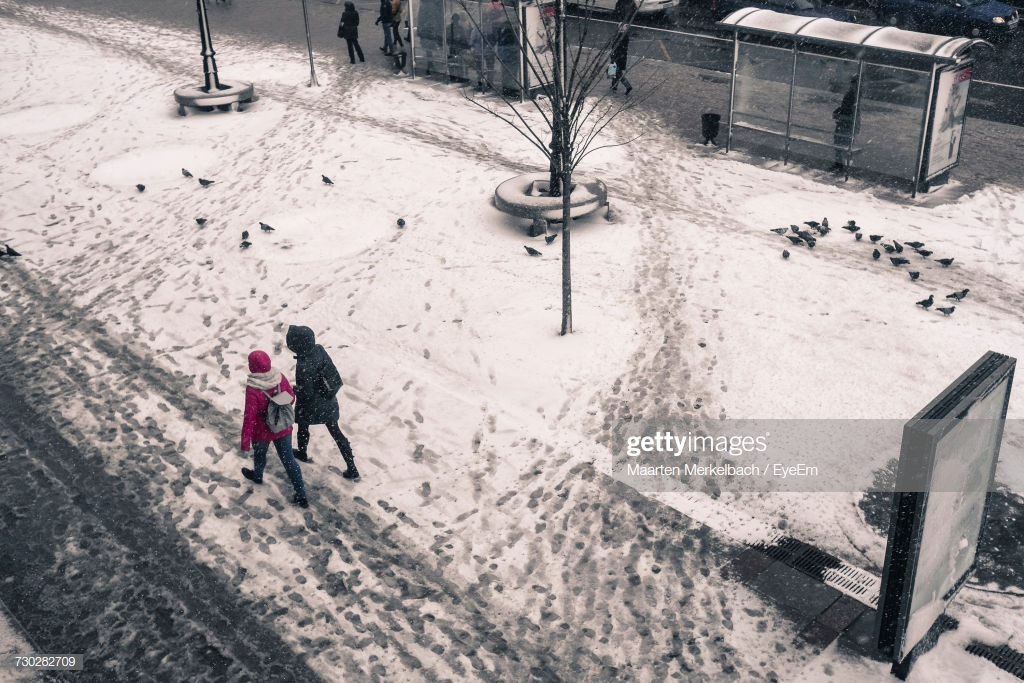Person: (233, 347, 314, 508), (285, 323, 364, 485)
